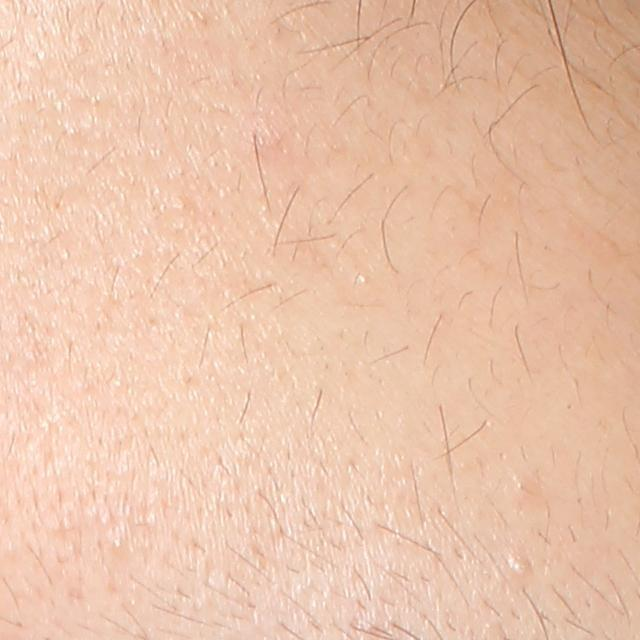comedo: (508, 552, 531, 578), (109, 534, 125, 554)
